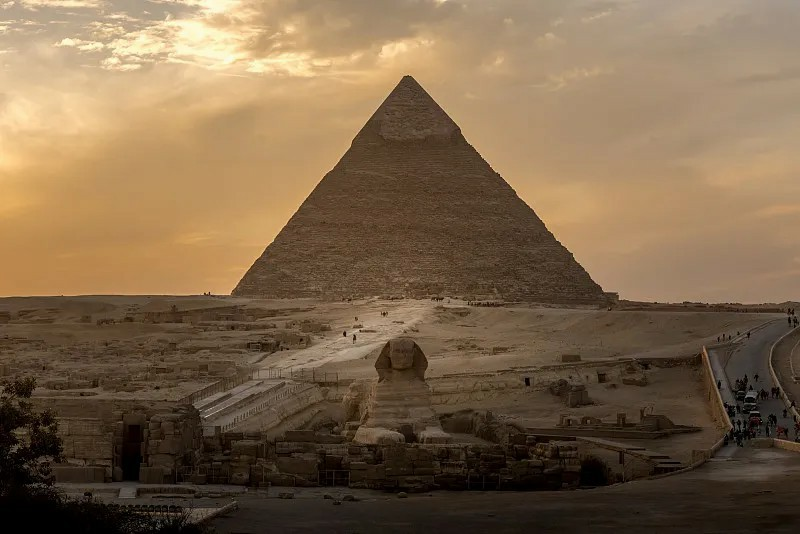Pyramid: (230, 76, 614, 309)
